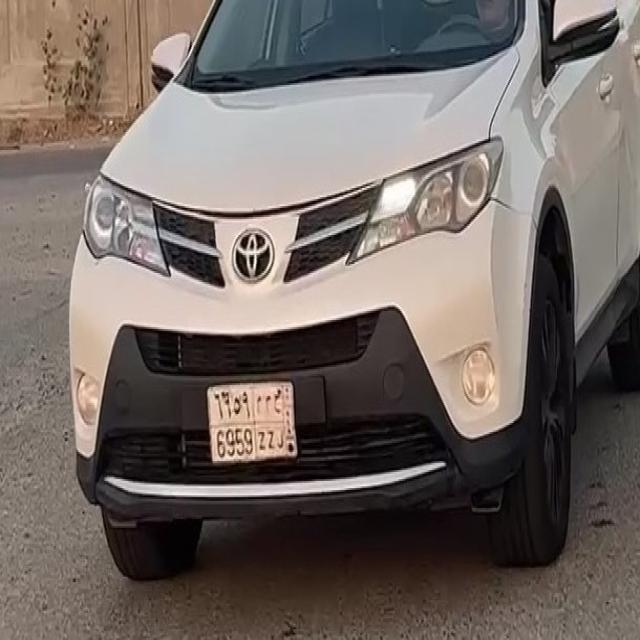Car-plate: (196, 361, 312, 478)
